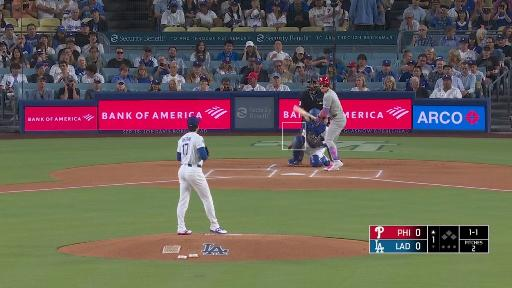pitcher: (174, 116, 227, 234)
